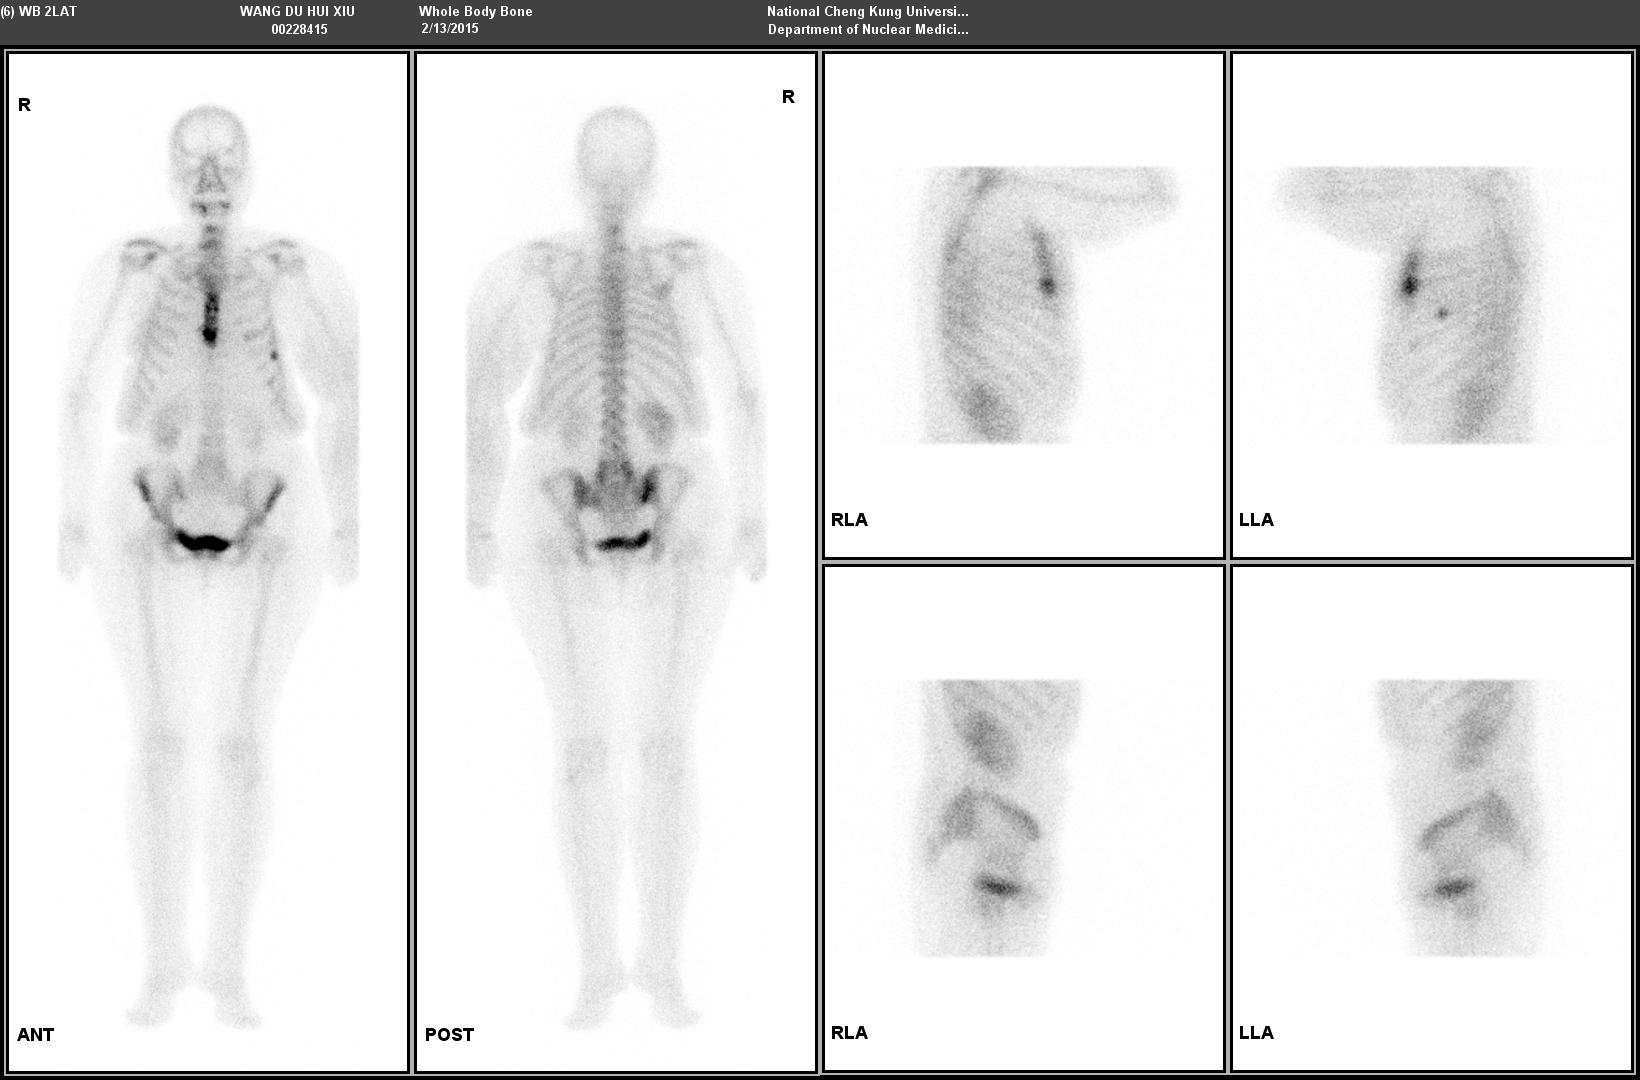person: (7, 50, 821, 1077)
